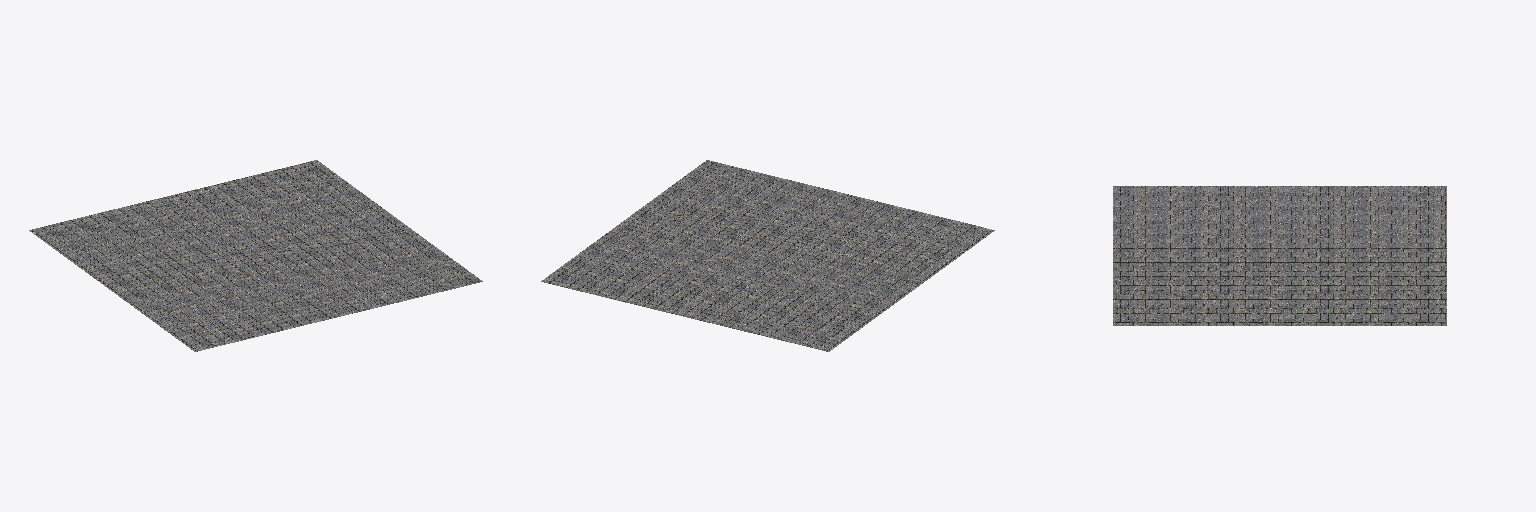
3 views of the same model, side by side, from view 1: azimuth 30°, elevation 25°; view 2: azimuth 150°, elevation 25°; view 3: azimuth 270°, elevation 25° (orthographic).
Visible parts, largest first — view 1: Terrain; view 2: Terrain; view 3: Terrain.
Boxes of the visible parts, box(x1,y1,x2,y2) form: Terrain: box(29, 160, 482, 351); Terrain: box(541, 160, 994, 351); Terrain: box(1113, 186, 1446, 325).
Size of the model in its own units: 10 by 0 by 10.
1 materials, 1 textured.